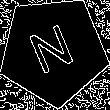N_SE: (26, 20, 81, 82)
